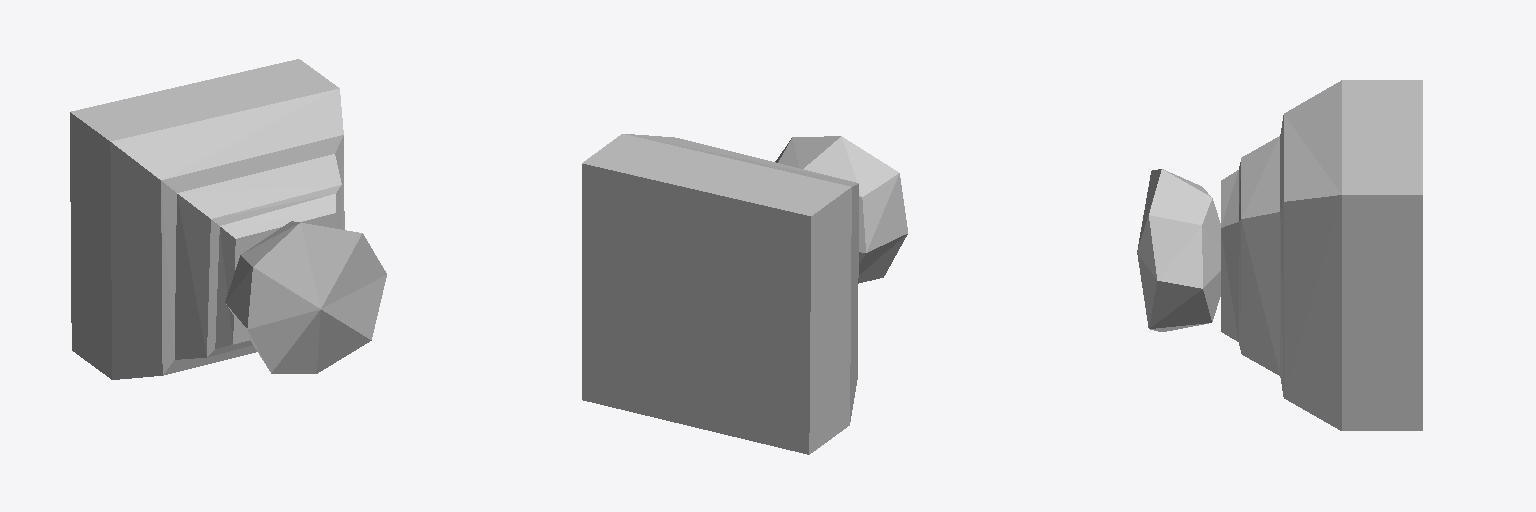
File: Altar-misc-04.obj
3 renders of one model, left to right at view 1: azimuth 30°, elevation 25°; view 2: azimuth 150°, elevation 25°; view 3: azimuth 270°, elevation 25°, orthographic.
Visible parts, largest first — view 1: (null); view 2: (null); view 3: (null).
Part boxes in pixels (left/top/right/bottom): (null): left=70, top=59, right=386, bottom=379; (null): left=582, top=134, right=907, bottom=454; (null): left=1137, top=80, right=1422, bottom=430.
Size of the model in its own units: 1.97 by 1.97 by 2.13.